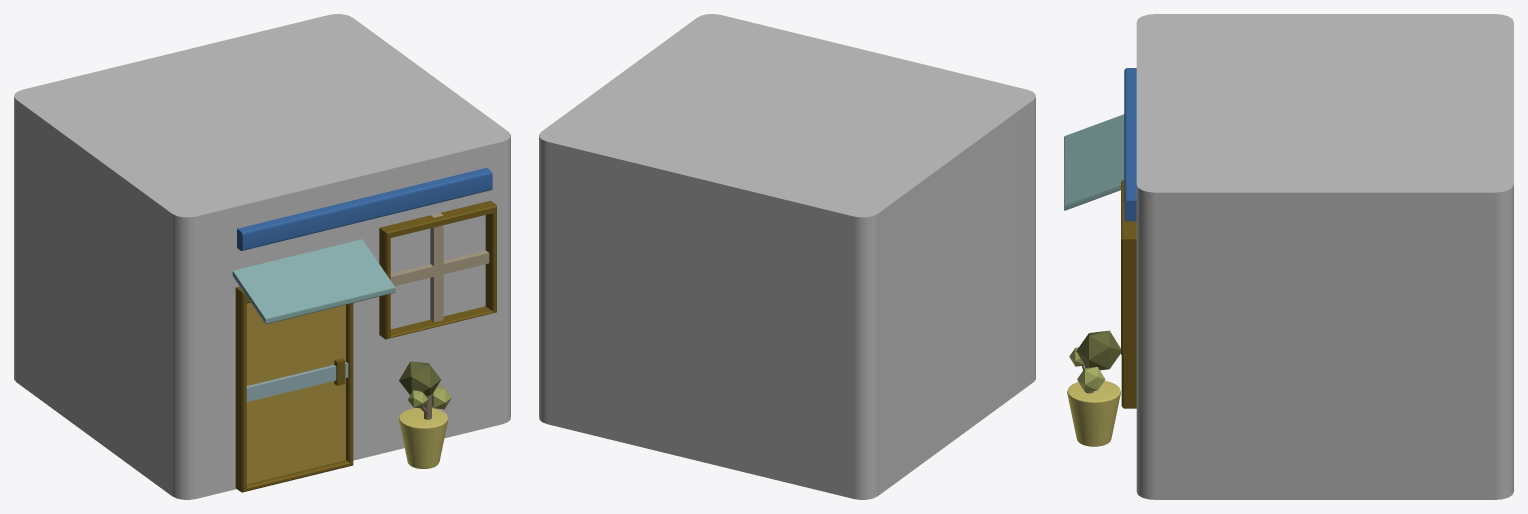
File: SM_house_2-1.fbx
3 renders of one model, left to right at view 1: azimuth 30°, elevation 25°; view 2: azimuth 150°, elevation 25°; view 3: azimuth 270°, elevation 25°, orthographic. The views are drawn at different scales.
Visible parts, largest first — view 1: polySurface354; view 2: polySurface354; view 3: polySurface354.
Part boxes in pixels (x1=…): polySurface354: x1=14, y1=14, x2=510, y2=499; polySurface354: x1=539, y1=14, x2=1035, y2=499; polySurface354: x1=1064, y1=14, x2=1513, y2=499.
Bounding box in the file's own units: 290 × 233 × 309.
